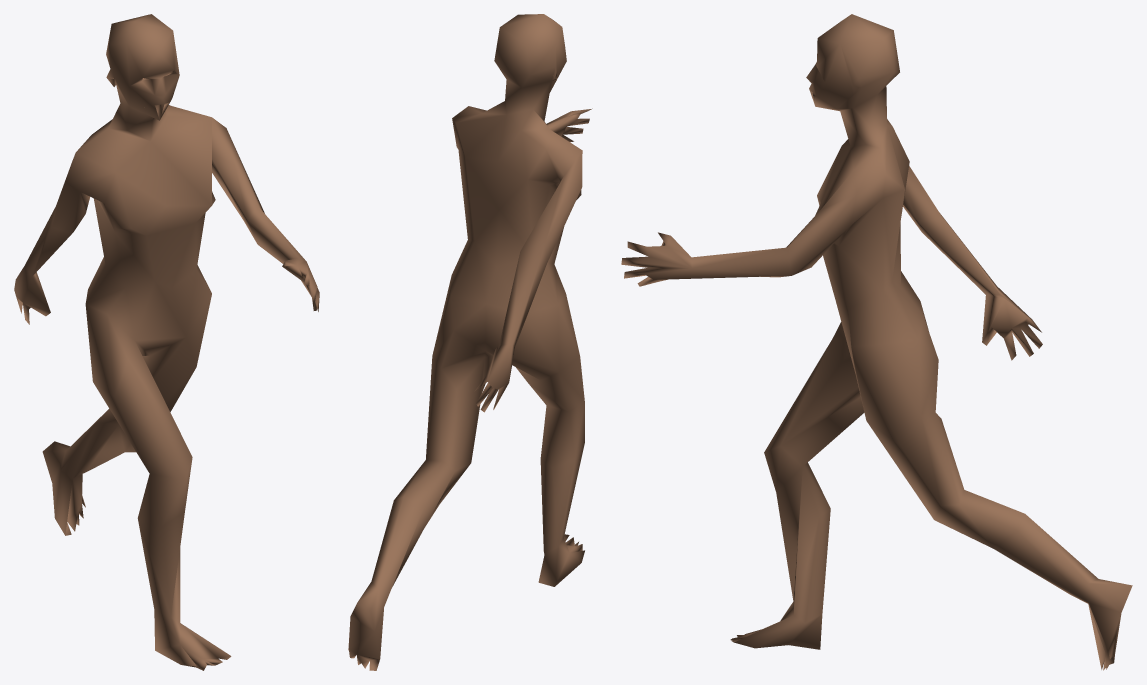
The model's file is obs_000046.obj.
3 renders of one model, left to right at view 1: azimuth 30°, elevation 25°; view 2: azimuth 150°, elevation 25°; view 3: azimuth 270°, elevation 25°, orthographic. The views are drawn at different scales.
Parts seen in each view (by area): view 1: 1-base; view 2: 1-base; view 3: 1-base.
Boxes of the visible parts, x1,y1,x2,y2 form: 1-base: [14, 14, 319, 670]; 1-base: [348, 14, 592, 670]; 1-base: [621, 14, 1132, 670].
Bounding box in the file's own units: 0.3805 × 1.4 × 1.03.
